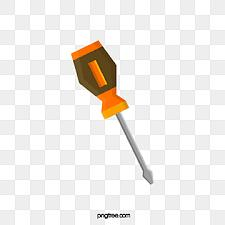screwdriver: (70, 39, 155, 184)
